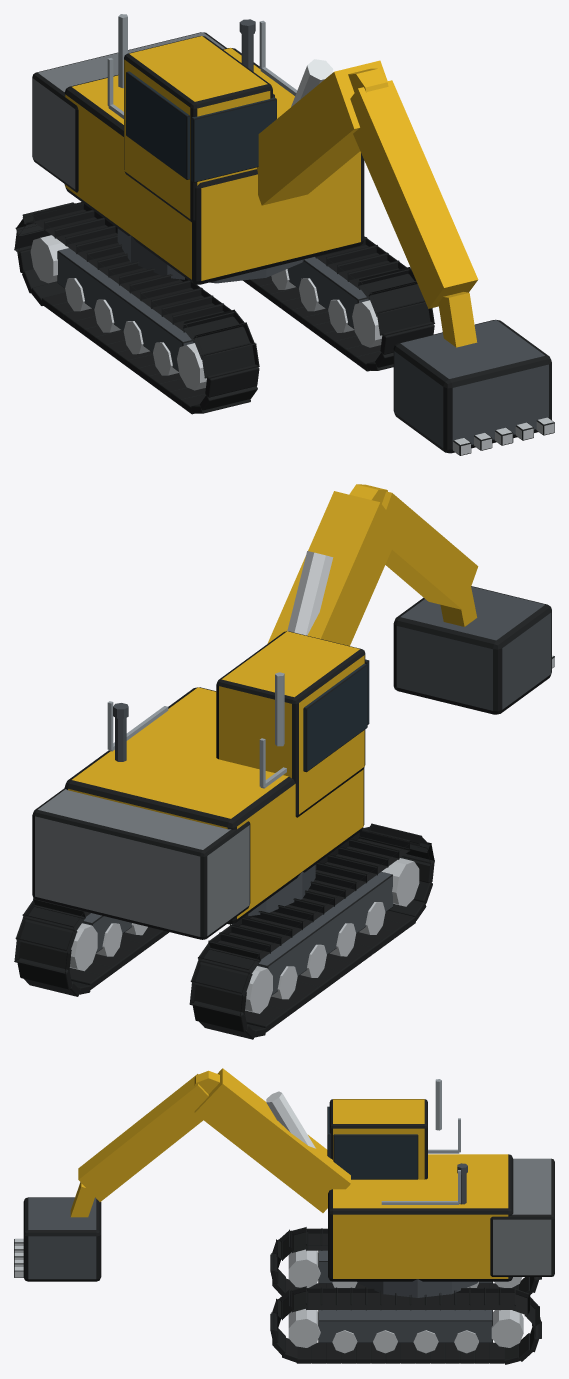
Rendered from veh_excavator.glb.
The picture shows the model from 3 angles, top to bottom: view 1: azimuth 30°, elevation 25°; view 2: azimuth 150°, elevation 25°; view 3: azimuth 270°, elevation 25°; orthographic projection. The views are drawn at different scales.
Visible parts, largest first — view 1: veh_excavator; view 2: veh_excavator; view 3: veh_excavator.
Part boxes in pixels (x1,y1,x2,y2): veh_excavator: (14,14,554,455); veh_excavator: (14,484,554,1039); veh_excavator: (14,1068,554,1364).
Size of the model in its own units: 3.03 by 4.67 by 9.06.
